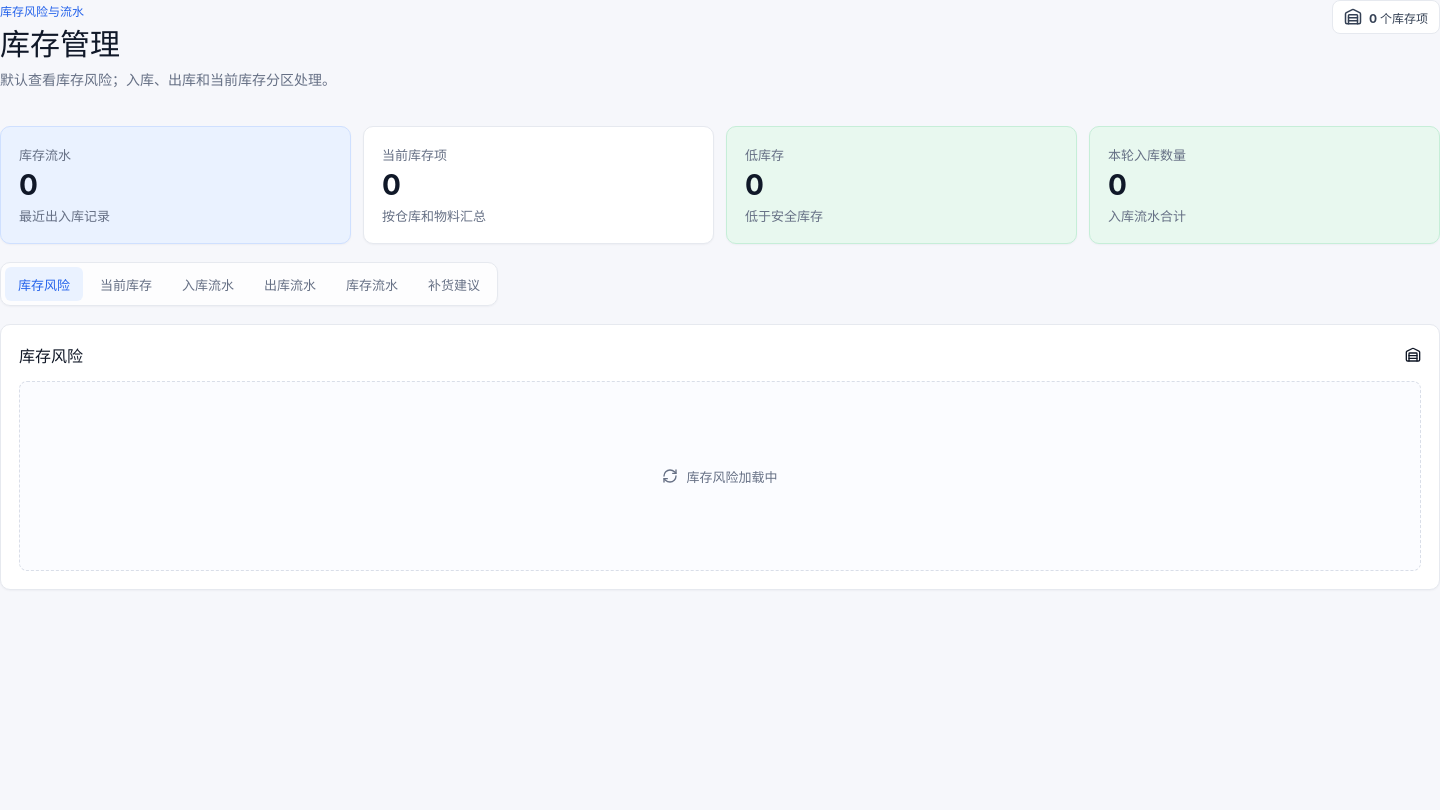
it: 基础资料/库存 保存反馈 › 入库流水登记成功后弹出按类型措辞的 toast
The image size is (1440, 810).
Step 1. Click the tab "入库流水" → (208, 284), box x1=169 y1=268 x2=247 y2=302
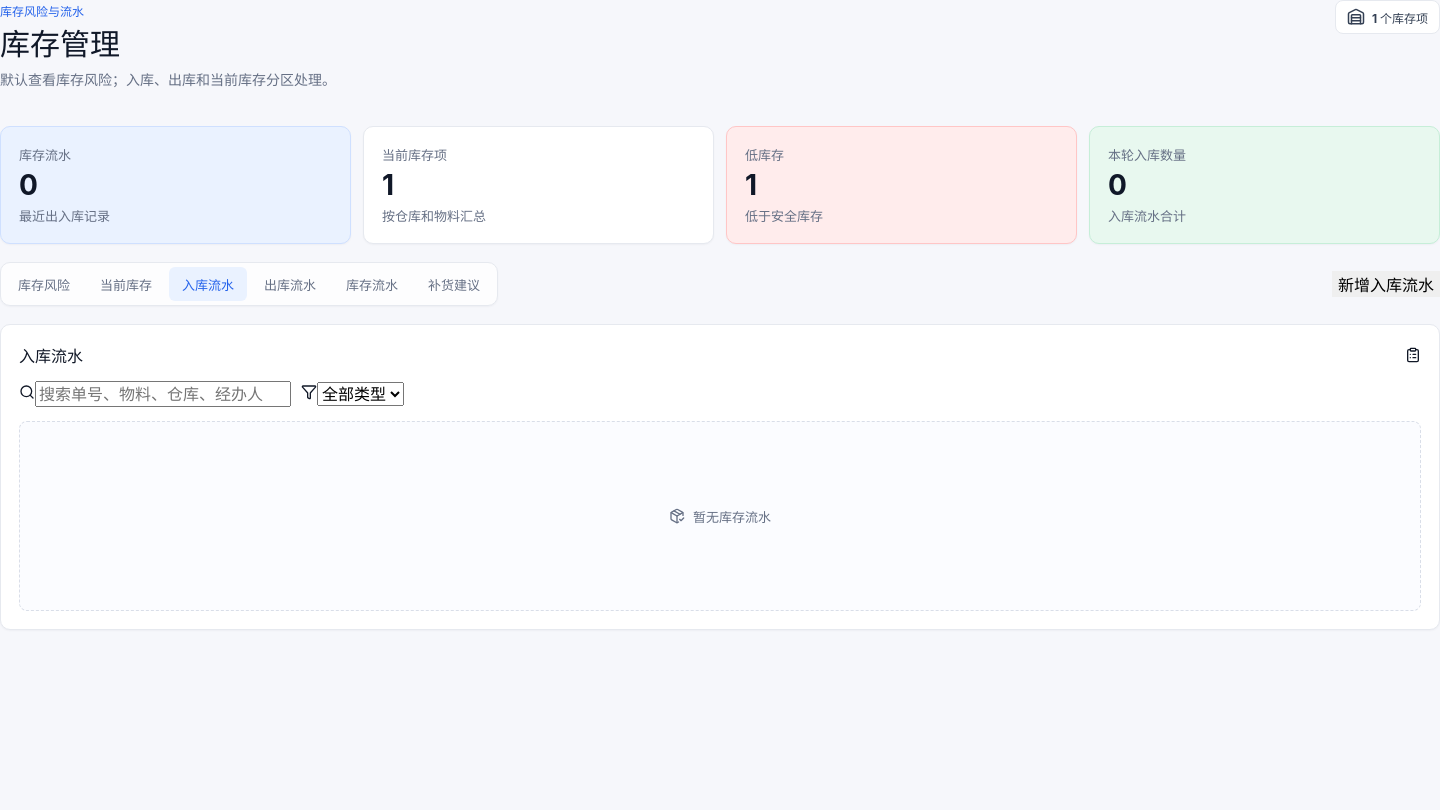
Step 2. Click the button "新增入库流水" → (1386, 284), box x1=1332 y1=272 x2=1439 y2=298
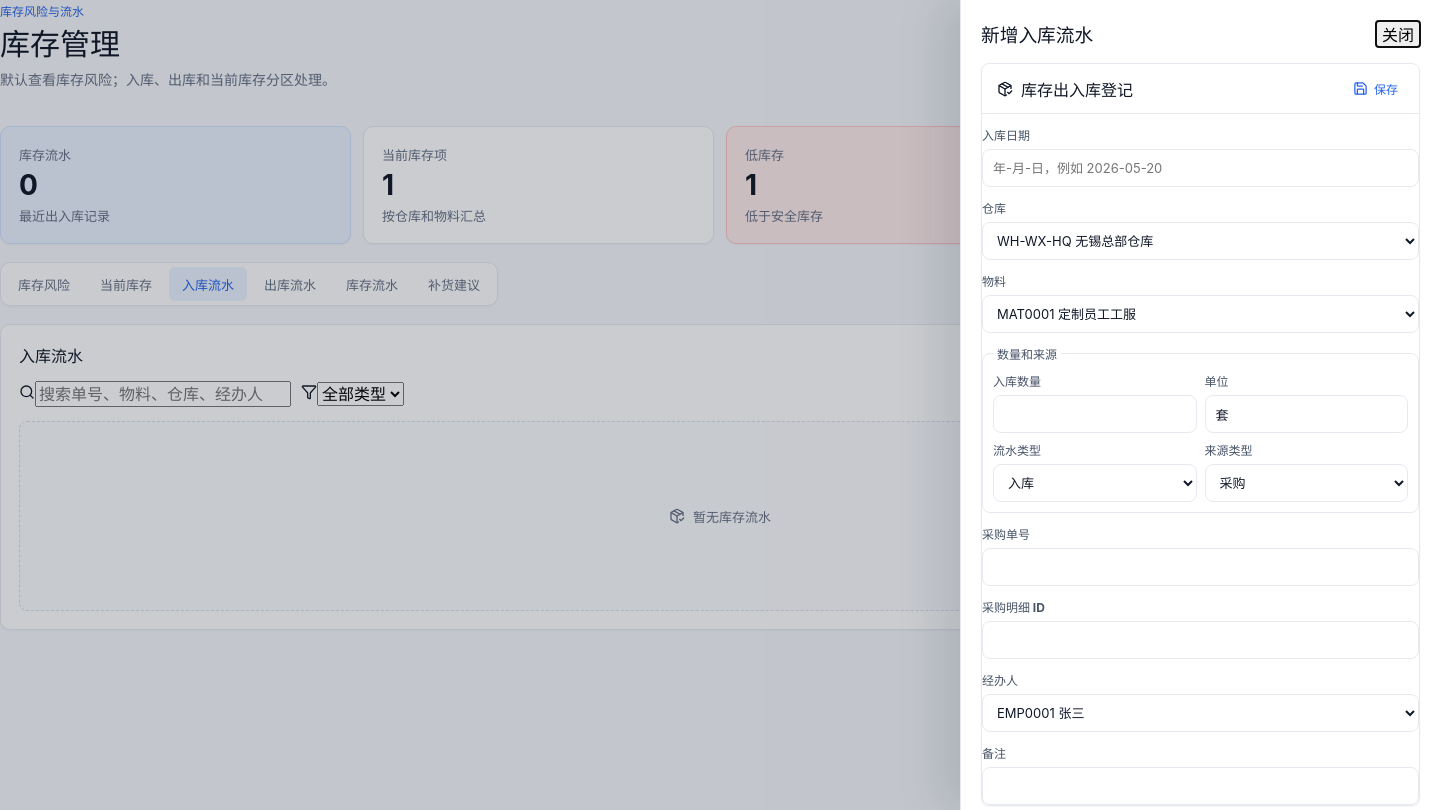
Step 3. Type "2026-05-11" into the field labelled "入库日期" → (1200, 168), box x1=982 y1=149 x2=1419 y2=187
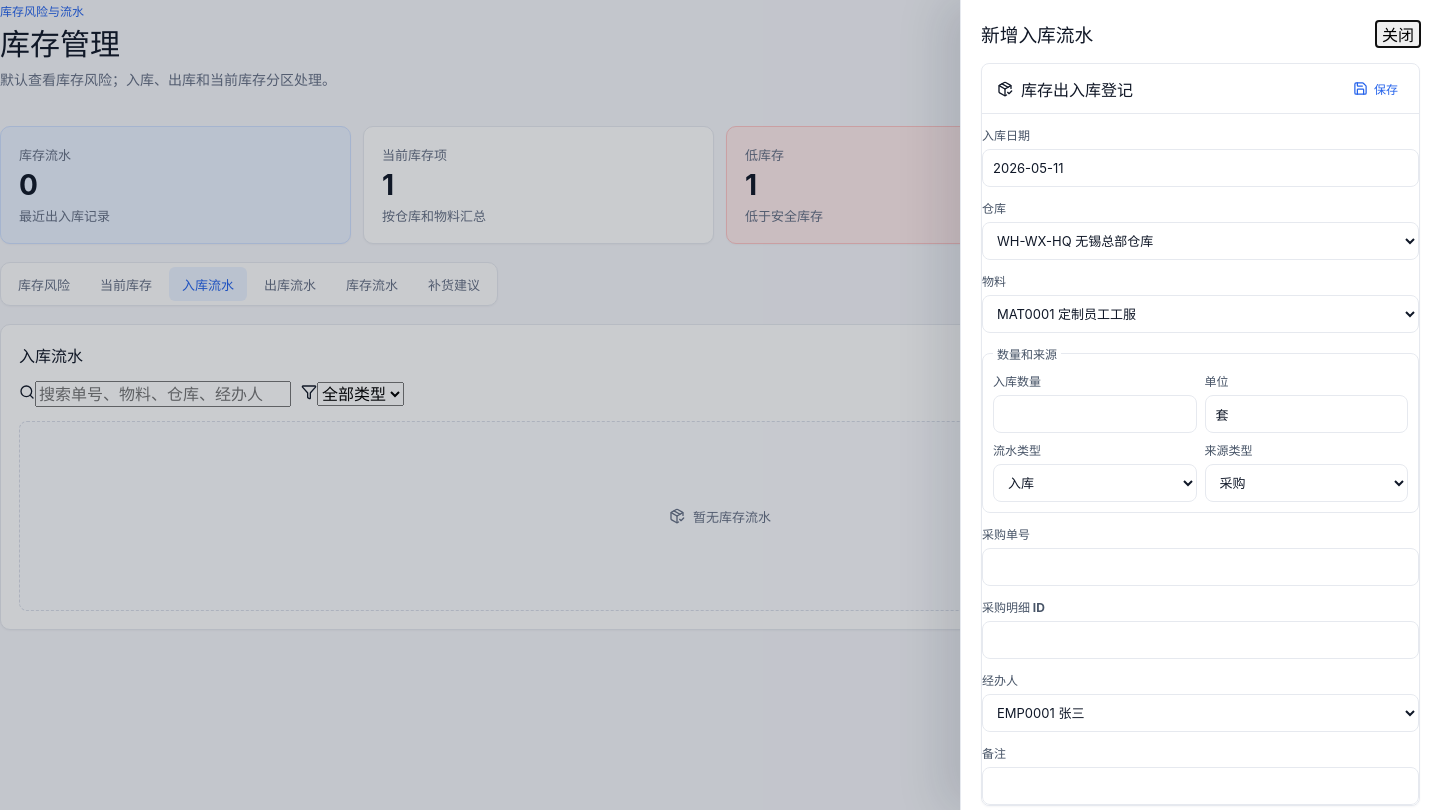
Step 4. Select "WH-WX-HQ 无锡总部仓库" in the dropdown labelled "仓库" → (1200, 241), box x1=982 y1=222 x2=1419 y2=260
Step 5. Select "MAT0001 定制员工工服" in the dropdown labelled "物料" → (1200, 314), box x1=982 y1=295 x2=1419 y2=333
Step 6. Type "10" into the number field labelled "入库数量" → (1095, 414), box x1=993 y1=395 x2=1196 y2=433
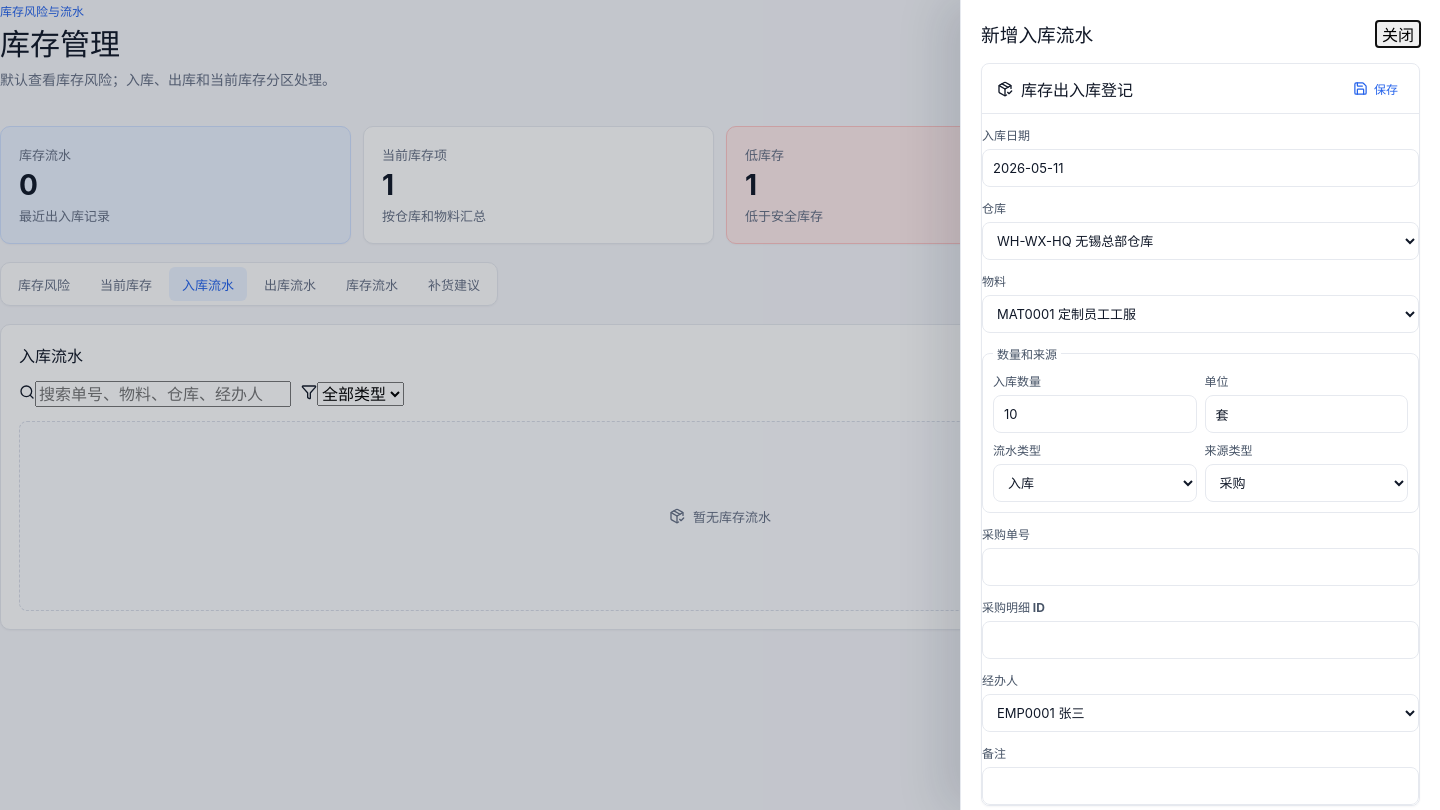
Step 7. Click the button "保存" → (1376, 88), box x1=1347 y1=79 x2=1404 y2=98
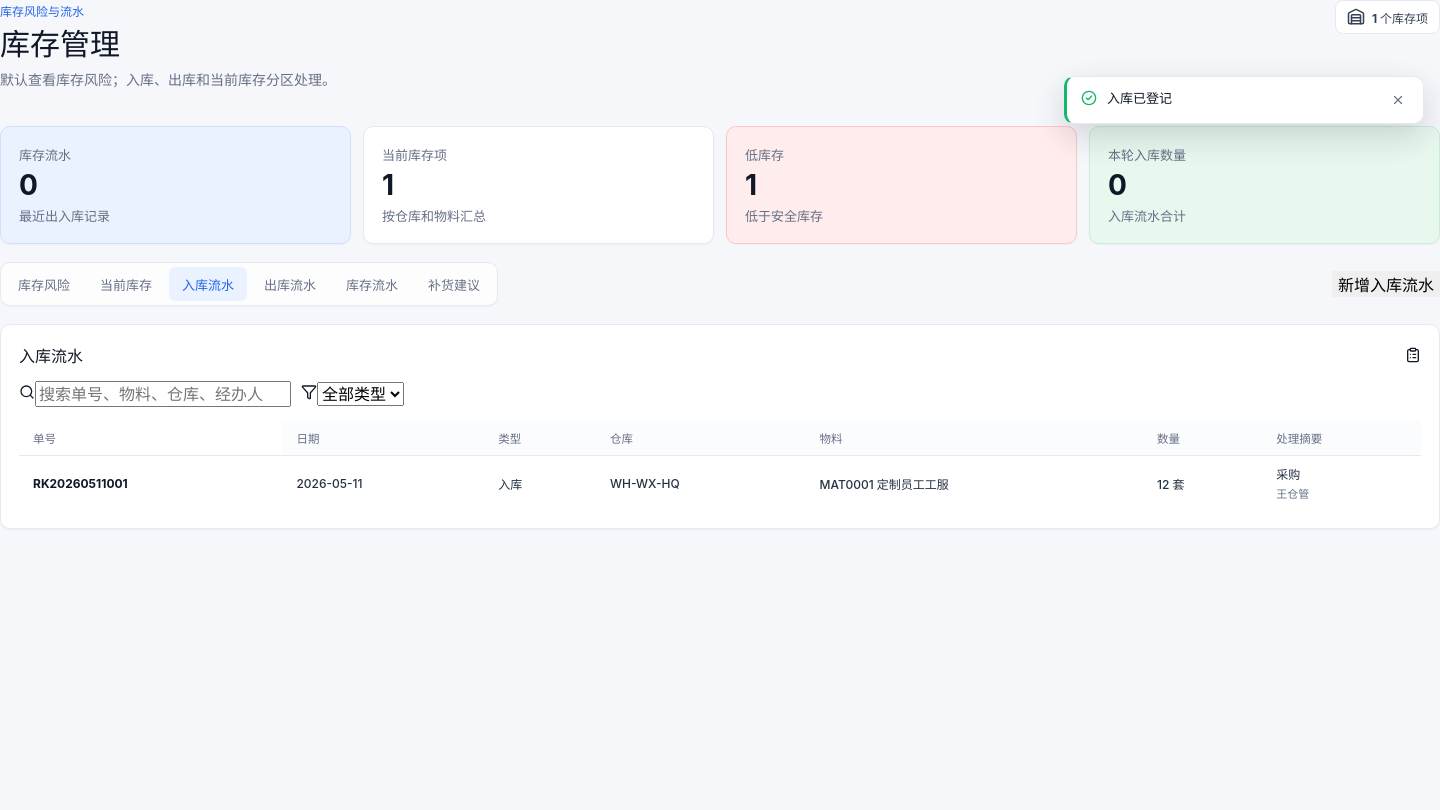
Expected: the message reads "入库已登记", x1=1107 y1=90 x2=1172 y2=106
